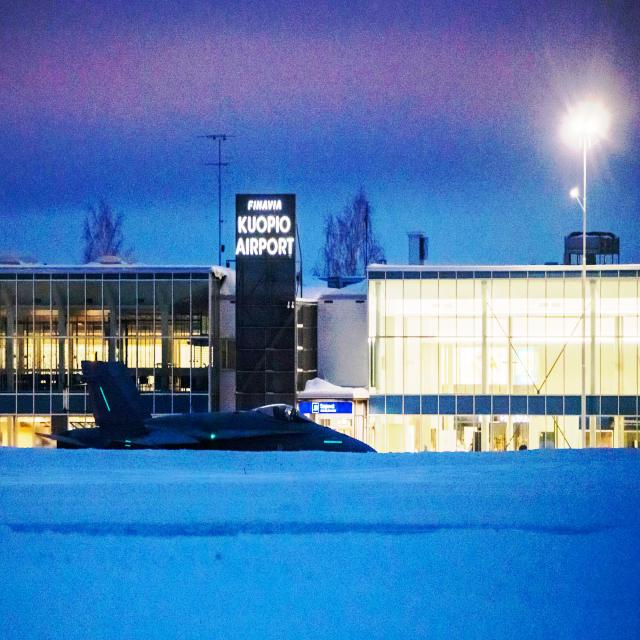Aircraft: (48, 356, 379, 453)
